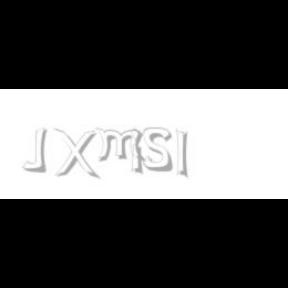J: (22, 128, 46, 172)
S: (143, 128, 174, 172)
X: (53, 128, 97, 180)
i: (130, 128, 146, 176)
l: (176, 128, 192, 180)
m: (95, 128, 147, 162)
